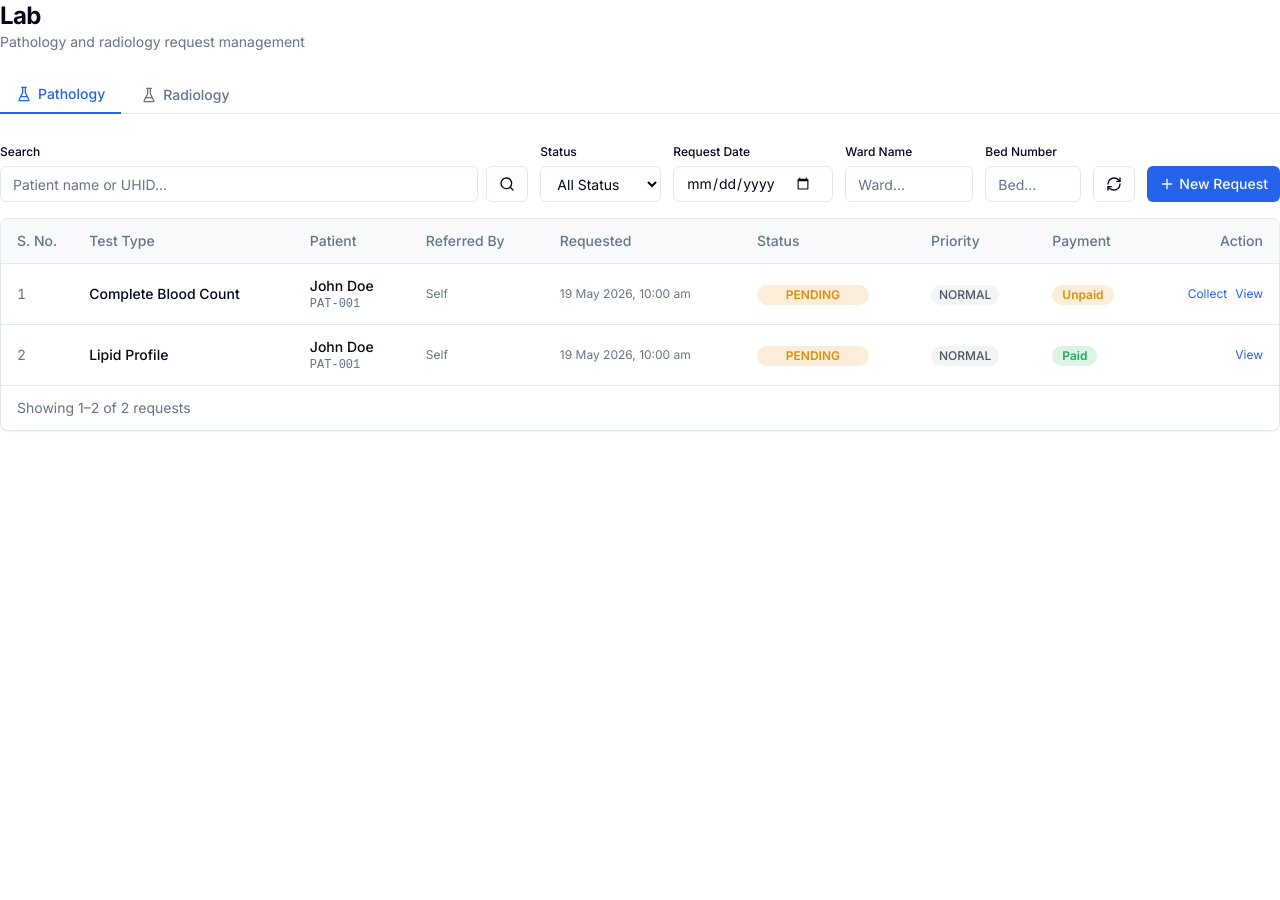
Test: Lab payment — Paid/Unpaid status › detail panel shows payment details for a paid request
Click the button "View" in the row of "Lipid Profile" at (1249, 355), box [1235, 347, 1263, 363]
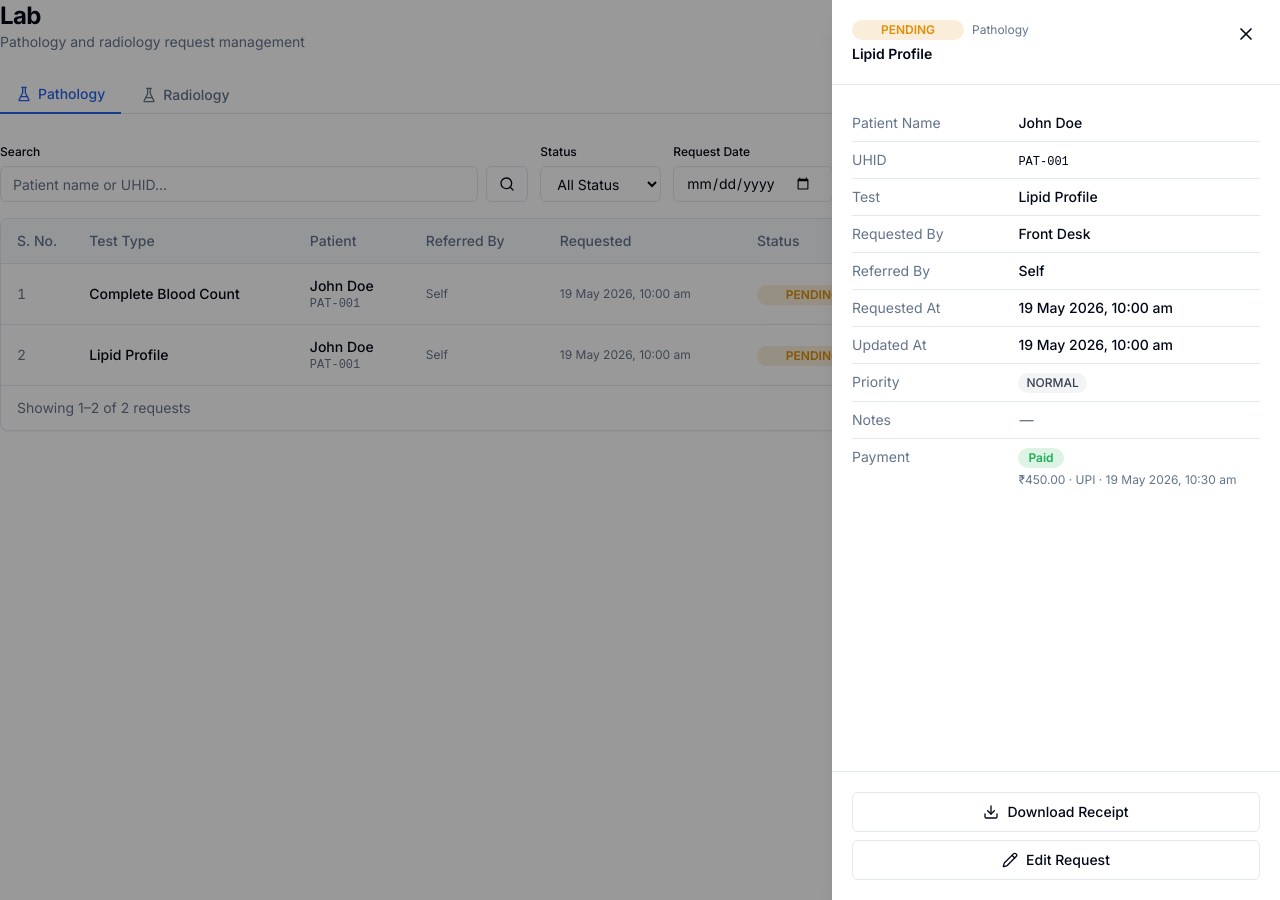
Result: the text "₹450.00 · UPI · 19 May 2026, 10:30 am" is shown at [1018, 472, 1260, 488]
